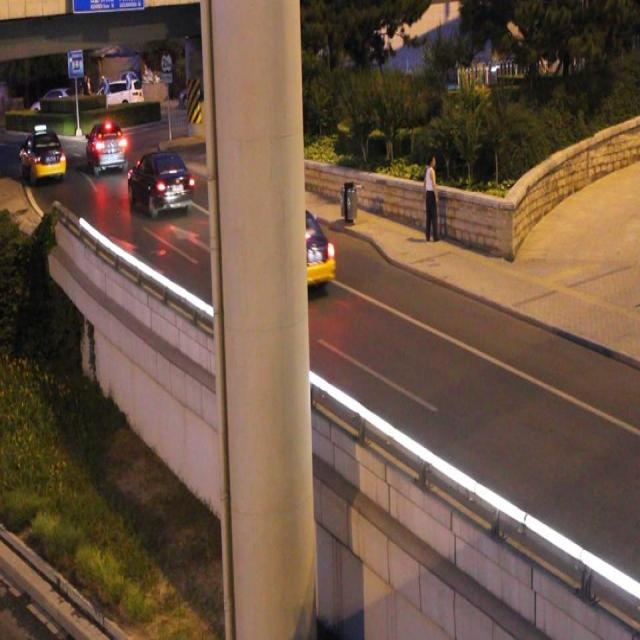car: (250, 210, 334, 288), (128, 153, 192, 213), (20, 133, 66, 176), (86, 125, 126, 169)
